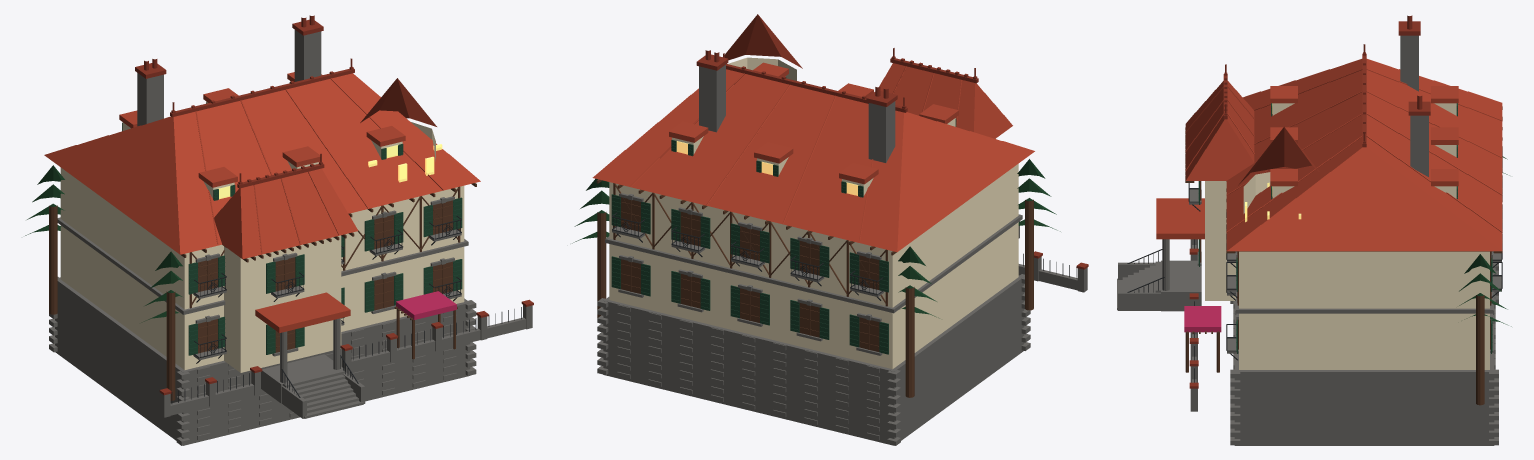
Rendered from fv_thd_12_villa_28_art_deco_normandy.glb.
3 renders of one model, left to right at view 1: azimuth 30°, elevation 25°; view 2: azimuth 150°, elevation 25°; view 3: azimuth 270°, elevation 25°, orthographic.
Visible parts, largest first — view 1: marseille_corrugated_roof_tiles, granite_foundation_and_stairs, stucco_facade_and_dormers, colombage_timber_and_eaves, pine_green_louvered_shutters, ridge_cresting_and_chimneys, wrought_iron_balconies_3d, pine_trees_and_garden_hedges, bougainvillea_pergola_clusters, warm_night_windows_ffb86c; view 2: marseille_corrugated_roof_tiles, granite_foundation_and_stairs, stucco_facade_and_dormers, colombage_timber_and_eaves, pine_green_louvered_shutters, ridge_cresting_and_chimneys, pine_trees_and_garden_hedges, wrought_iron_balconies_3d; view 3: marseille_corrugated_roof_tiles, stucco_facade_and_dormers, granite_foundation_and_stairs, colombage_timber_and_eaves, ridge_cresting_and_chimneys, bougainvillea_pergola_clusters, wrought_iron_balconies_3d, pine_trees_and_garden_hedges, pine_green_louvered_shutters.
Part boxes in pixels (left/top/right/bottom): marseille_corrugated_roof_tiles: left=44, top=72, right=480, bottom=332; granite_foundation_and_stairs: left=49, top=30, right=532, bottom=445; stucco_facade_and_dormers: left=60, top=81, right=464, bottom=372; colombage_timber_and_eaves: left=49, top=183, right=476, bottom=400; pine_green_louvered_shutters: left=122, top=82, right=462, bottom=355; ridge_cresting_and_chimneys: left=135, top=15, right=533, bottom=395; wrought_iron_balconies_3d: left=171, top=216, right=521, bottom=403; pine_trees_and_garden_hedges: left=25, top=165, right=182, bottom=322; bougainvillea_pergola_clusters: left=396, top=291, right=456, bottom=319; warm_night_windows_ffb86c: left=218, top=144, right=442, bottom=199; marseille_corrugated_roof_tiles: left=592, top=14, right=1034, bottom=252; granite_foundation_and_stairs: left=597, top=64, right=1087, bottom=445; stucco_facade_and_dormers: left=609, top=57, right=1018, bottom=369; colombage_timber_and_eaves: left=596, top=179, right=1033, bottom=397; pine_green_louvered_shutters: left=611, top=77, right=956, bottom=354; ridge_cresting_and_chimneys: left=696, top=48, right=1088, bottom=269; pine_trees_and_garden_hedges: left=572, top=159, right=1060, bottom=318; wrought_iron_balconies_3d: left=612, top=212, right=1076, bottom=300; marseille_corrugated_roof_tiles: left=1156, top=59, right=1502, bottom=251; stucco_facade_and_dormers: left=1205, top=103, right=1489, bottom=369; granite_foundation_and_stairs: left=1117, top=35, right=1501, bottom=445; colombage_timber_and_eaves: left=1185, top=106, right=1502, bottom=405; ridge_cresting_and_chimneys: left=1189, top=15, right=1430, bottom=388; bougainvillea_pergola_clusters: left=1184, top=306, right=1221, bottom=332; wrought_iron_balconies_3d: left=1127, top=146, right=1502, bottom=382; pine_trees_and_garden_hedges: left=1459, top=156, right=1511, bottom=326; pine_green_louvered_shutters: left=1198, top=103, right=1492, bottom=353.
Size of the model in its own units: 25.26 by 20.13 by 23.42.
